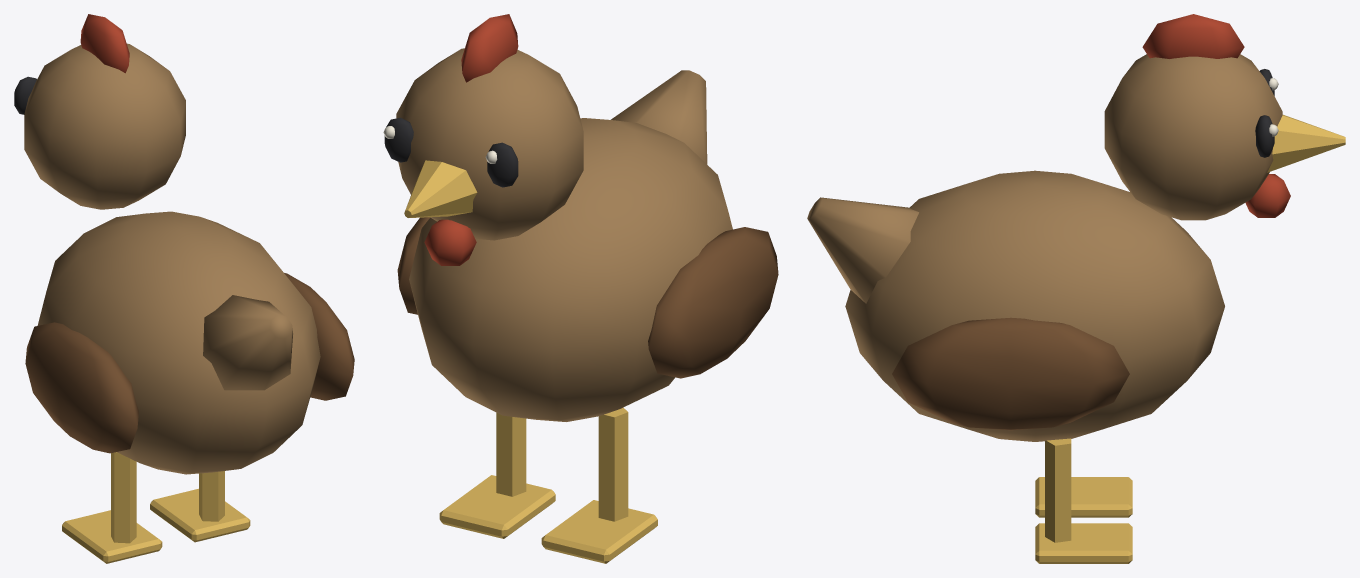
File: chicken.fbx
The picture shows the model from 3 angles, left to right: view 1: azimuth 30°, elevation 25°; view 2: azimuth 150°, elevation 25°; view 3: azimuth 270°, elevation 25°; orthographic projection. The views are drawn at different scales.
Parts seen in each view (by area): view 1: Body, Head, ArmL, LegL, LegR, ArmR; view 2: Body, Head, ArmL, LegL, LegR, ArmR; view 3: Body, Head, ArmR, LegR, LegL.
Boxes of the visible parts, x1,y1,x2,y2 form: Body: (37, 211, 320, 474); Head: (14, 14, 185, 209); ArmL: (25, 322, 138, 453); LegL: (62, 452, 162, 563); LegR: (150, 471, 250, 542); ArmR: (284, 273, 354, 400); Body: (409, 70, 732, 421); Head: (383, 14, 583, 265); ArmL: (648, 227, 778, 378); LegL: (541, 407, 657, 563); LegR: (439, 412, 555, 538); ArmR: (397, 217, 429, 314); Body: (807, 170, 1224, 441); Head: (1104, 14, 1345, 220); ArmR: (892, 317, 1129, 430); LegR: (1035, 438, 1132, 563); LegL: (1035, 477, 1132, 517).
Bounding box in the file's own units: 0.2439 × 0.3981 × 0.4185.
